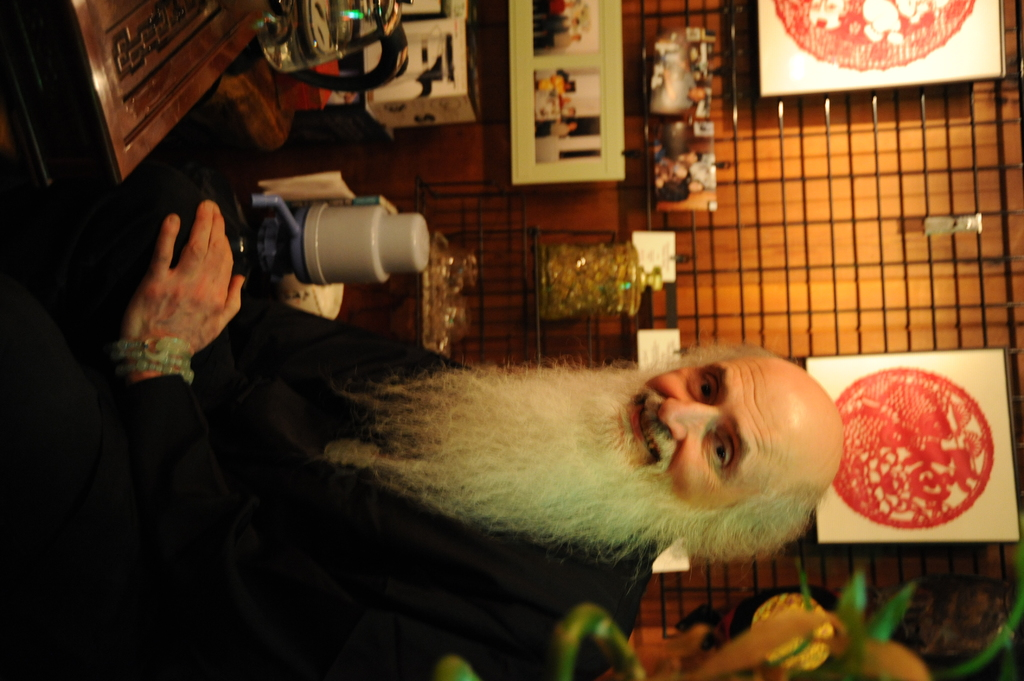Human-face: (620, 360, 774, 509)
